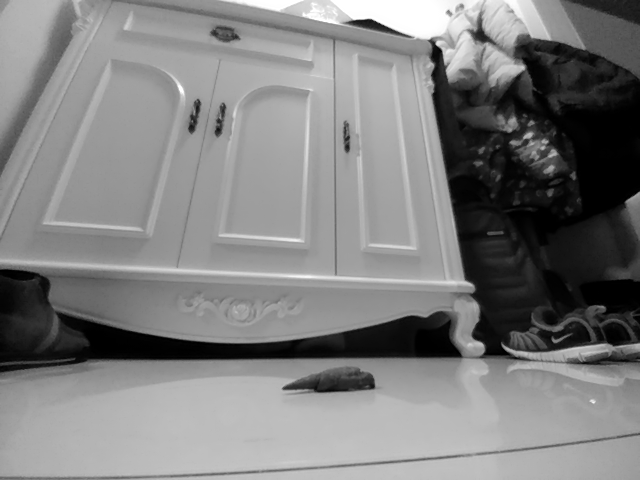pet feces: (1, 269, 94, 369), (283, 364, 376, 394)
shoe: (499, 297, 614, 366)
